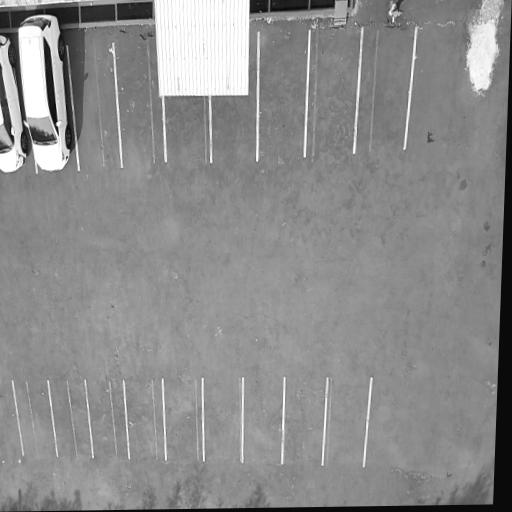Car: (12, 9, 79, 177), (0, 19, 32, 175)
Space Available: (353, 28, 418, 155), (304, 29, 363, 159), (257, 34, 310, 166), (68, 45, 121, 173), (113, 40, 164, 170), (282, 375, 328, 467), (324, 380, 371, 465), (241, 376, 285, 466), (12, 378, 58, 458), (48, 379, 93, 459), (203, 377, 244, 463), (85, 381, 129, 461), (163, 379, 204, 462), (211, 94, 258, 166), (125, 379, 165, 461), (163, 98, 211, 164), (0, 380, 24, 457)
